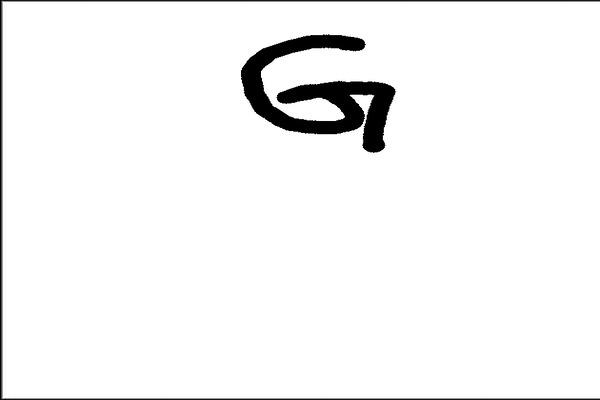G: (235, 32, 401, 159)
